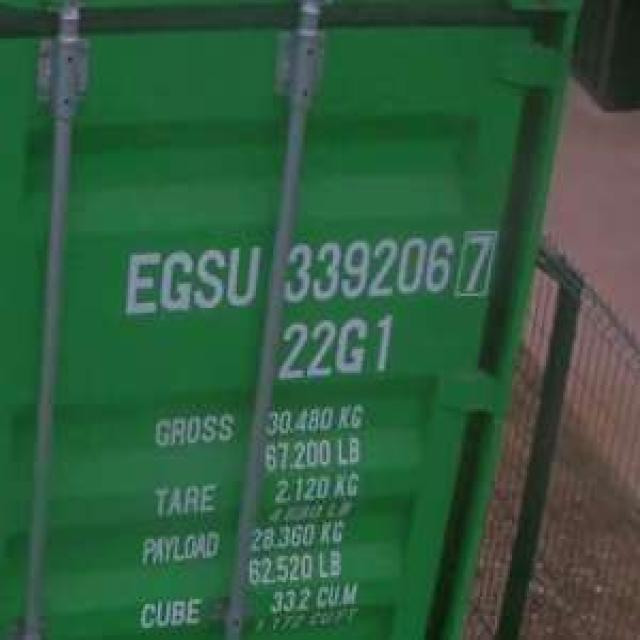dv: (452, 222, 499, 304)
owner: (120, 238, 260, 318)
serial: (278, 228, 452, 306)
size: (273, 313, 397, 385)
